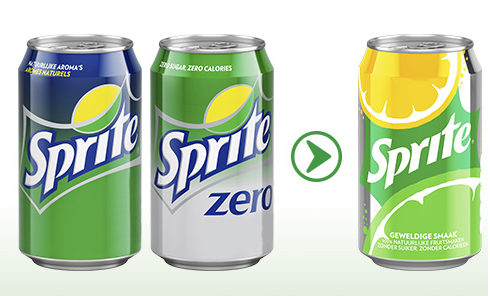sprite: (22, 100, 137, 194)
